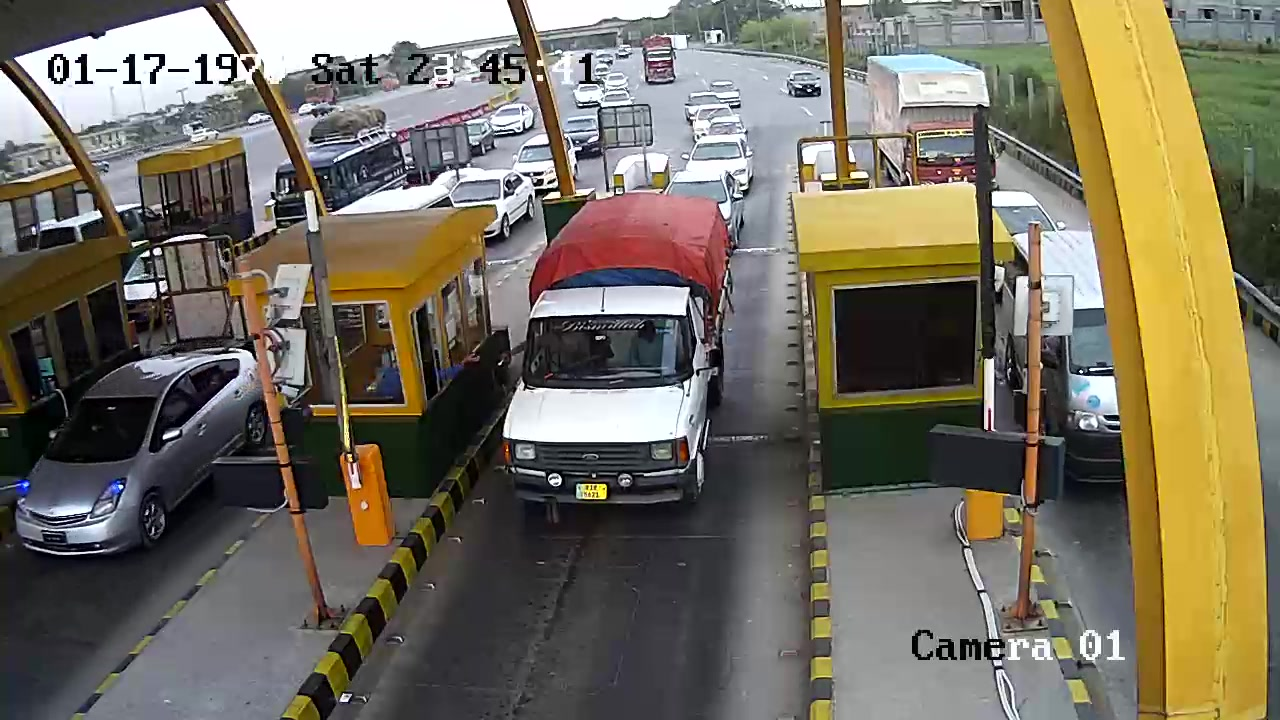F3: (496, 198, 742, 528)
